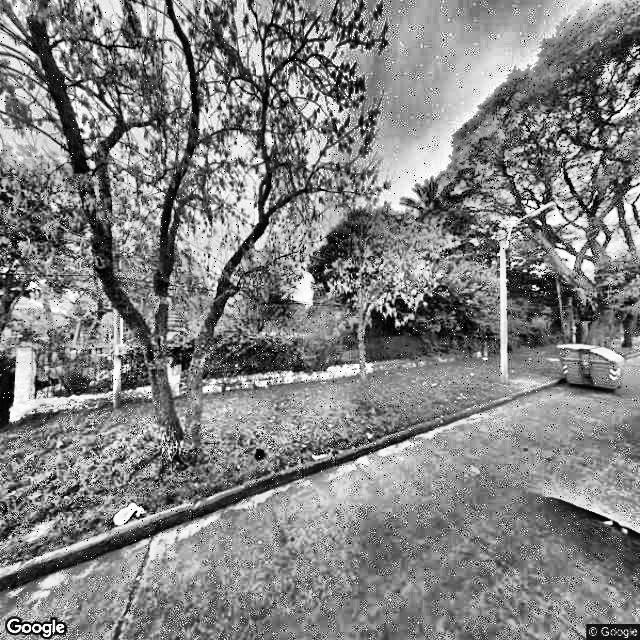Dustbin: (548, 335, 640, 401)
